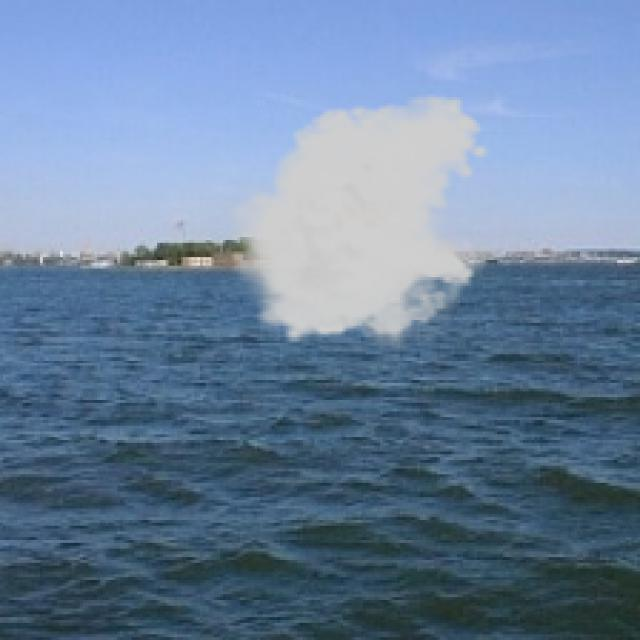smoke: (220, 92, 491, 357)
